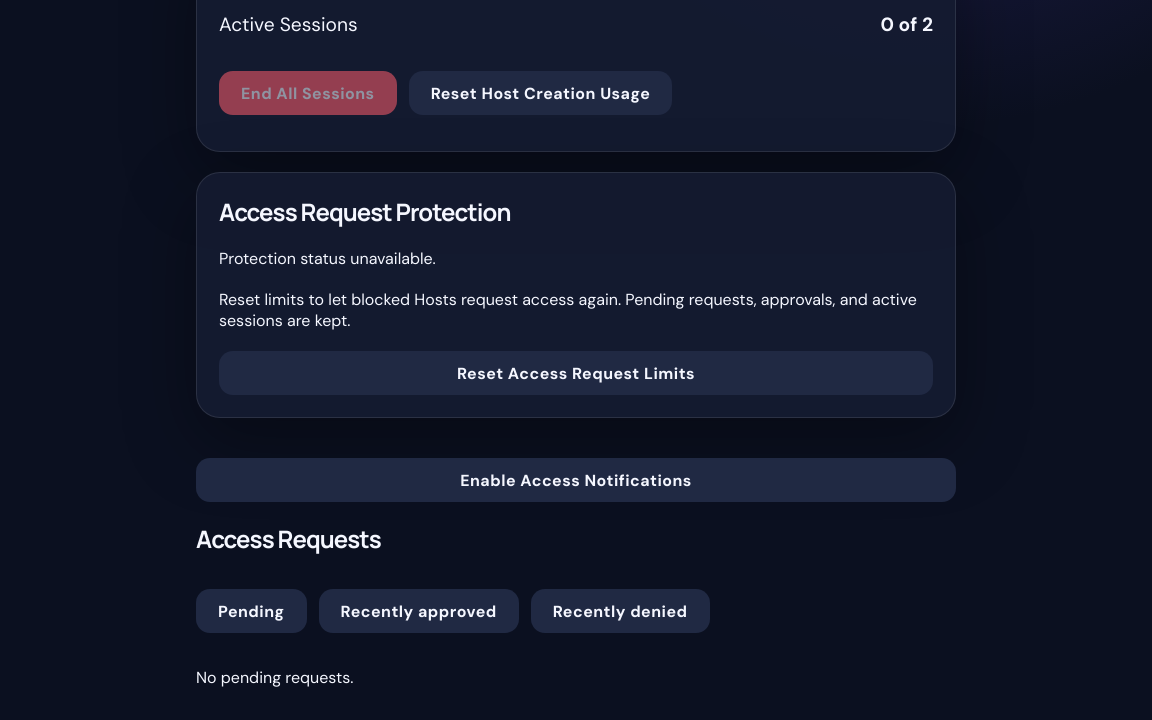
Test: Owner notification permission › requests permission only after a tap and registers the subscription
The image size is (1152, 720).
(page scrolled)
What coordinates should you click on to do the following:
click the button "Enable Access Notifications"
I would click on:
 (576, 480)
Its box is [196,458,956,502].
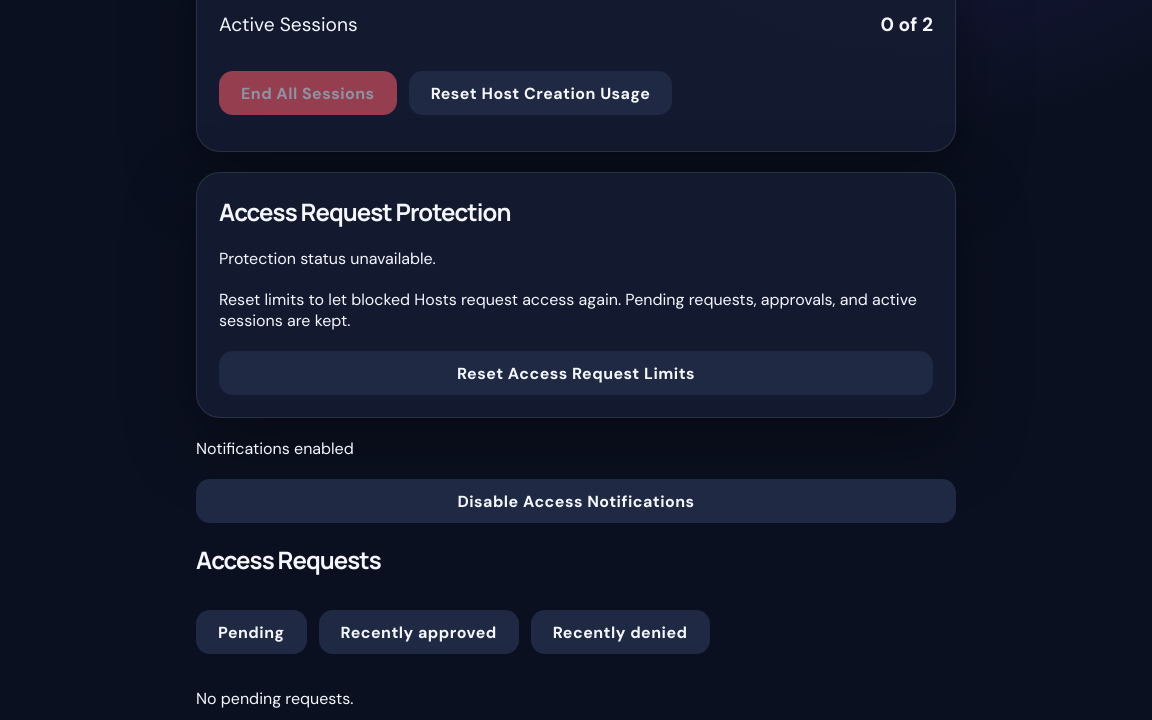
Expected: the text "Notifications enabled" is shown, [196,438,354,459]
